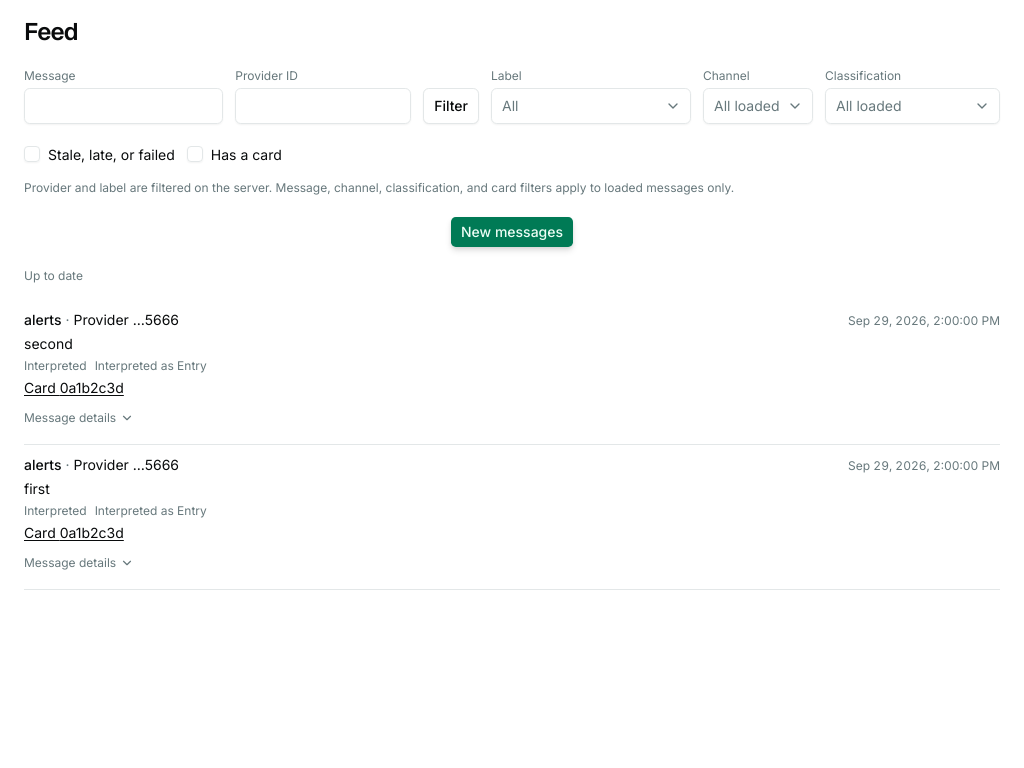
Test: feed screen › a new message at the top of the list appears at once; scrolled away it waits behind a pill
The width and height of the screenshot is (1024, 768).
Expected: the text "first" is shown, [24,480,50,497]
Expected: the text "second" is shown, [24,335,73,352]
Click the button "New messages" at (512, 232), box [450,216,574,248]
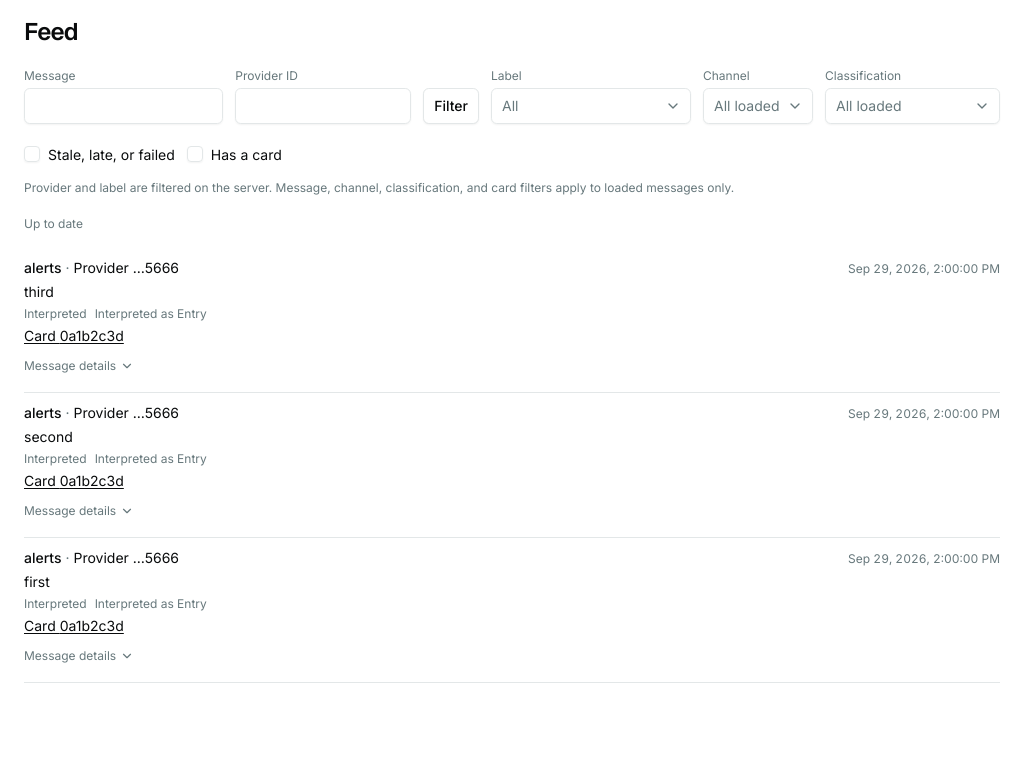
Expected: the text "third" is shown, [24,283,54,300]
Expected: the button "New messages" is gone
